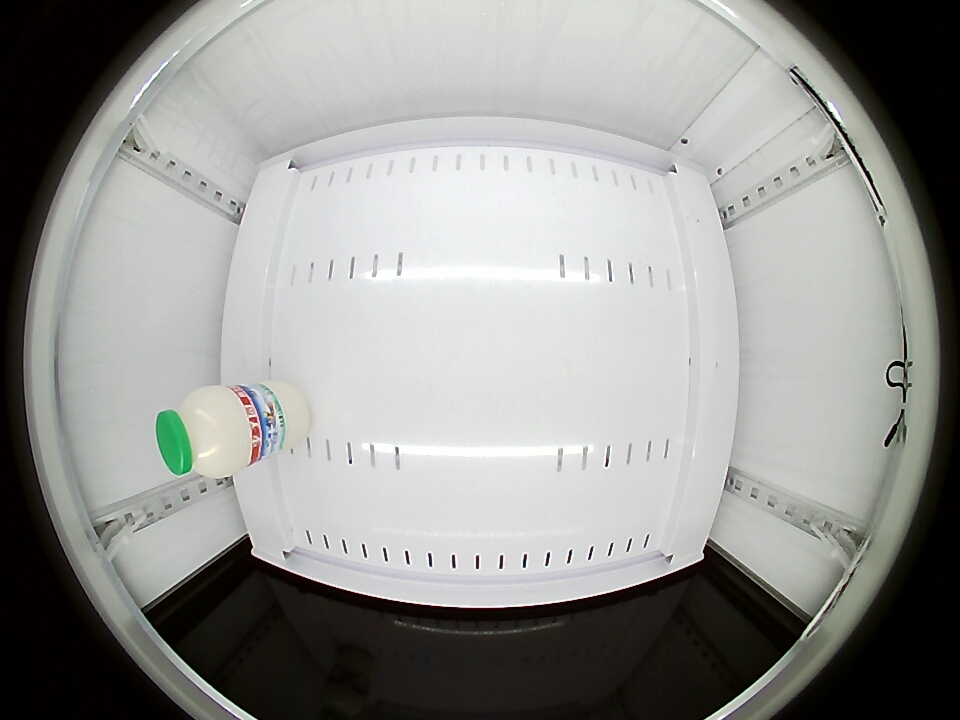liziyuan: (155, 384, 259, 479)
